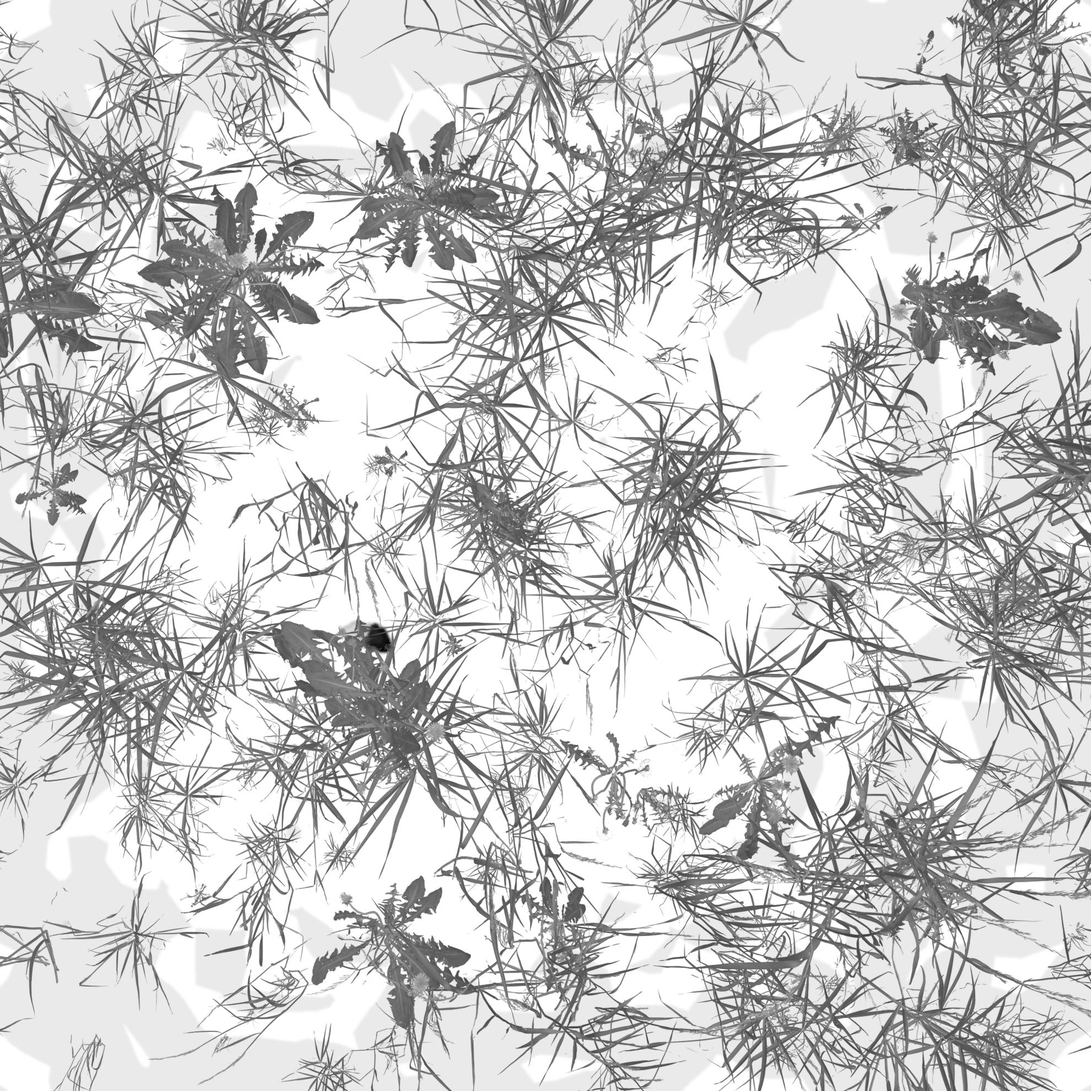landmine: (340, 620, 392, 658)
